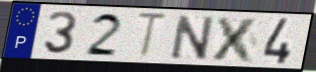2: (81, 11, 126, 58)
3: (42, 10, 79, 55)
4: (262, 16, 293, 67)
N: (169, 13, 216, 61)
T: (134, 11, 171, 61)
X: (208, 15, 263, 64)
